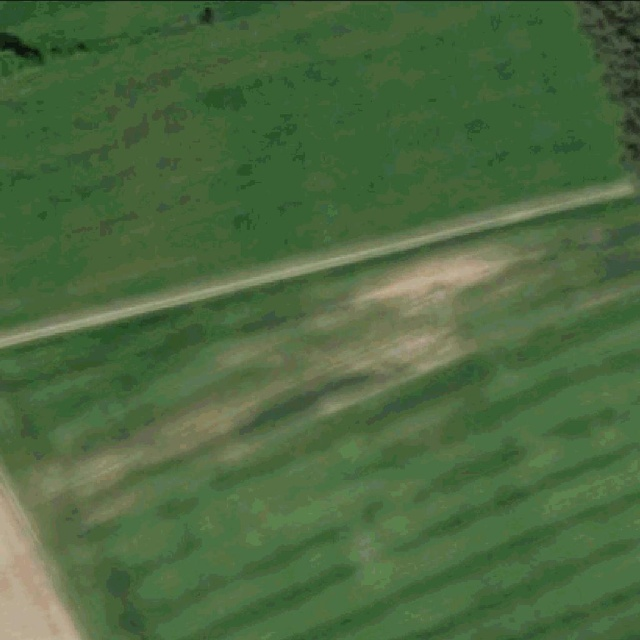vegetation: (577, 0, 640, 180)
